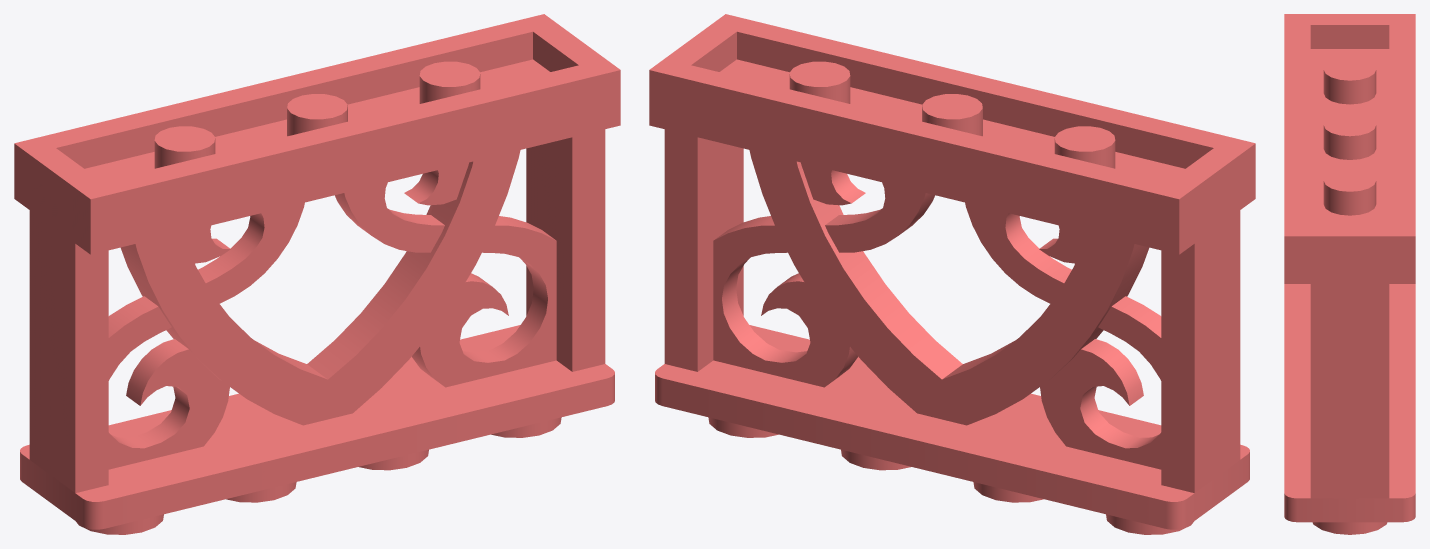
3 renders of one model, left to right at view 1: azimuth 30°, elevation 25°; view 2: azimuth 150°, elevation 25°; view 3: azimuth 270°, elevation 25°, orthographic. The views are drawn at different scales.
Visible parts, largest first — view 1: LDrawPart; view 2: LDrawPart; view 3: LDrawPart.
Boxes of the visible parts, bbox=[...] form: LDrawPart: bbox=[14, 14, 620, 534]; LDrawPart: bbox=[649, 14, 1255, 534]; LDrawPart: bbox=[1284, 14, 1415, 534].
Bounding box in the file's own units: 0.56 × 0.364 × 0.14.
